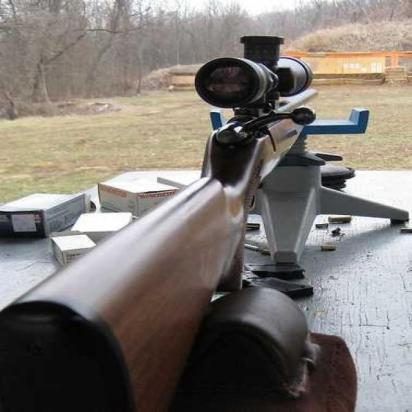Gun: (0, 27, 342, 412)
